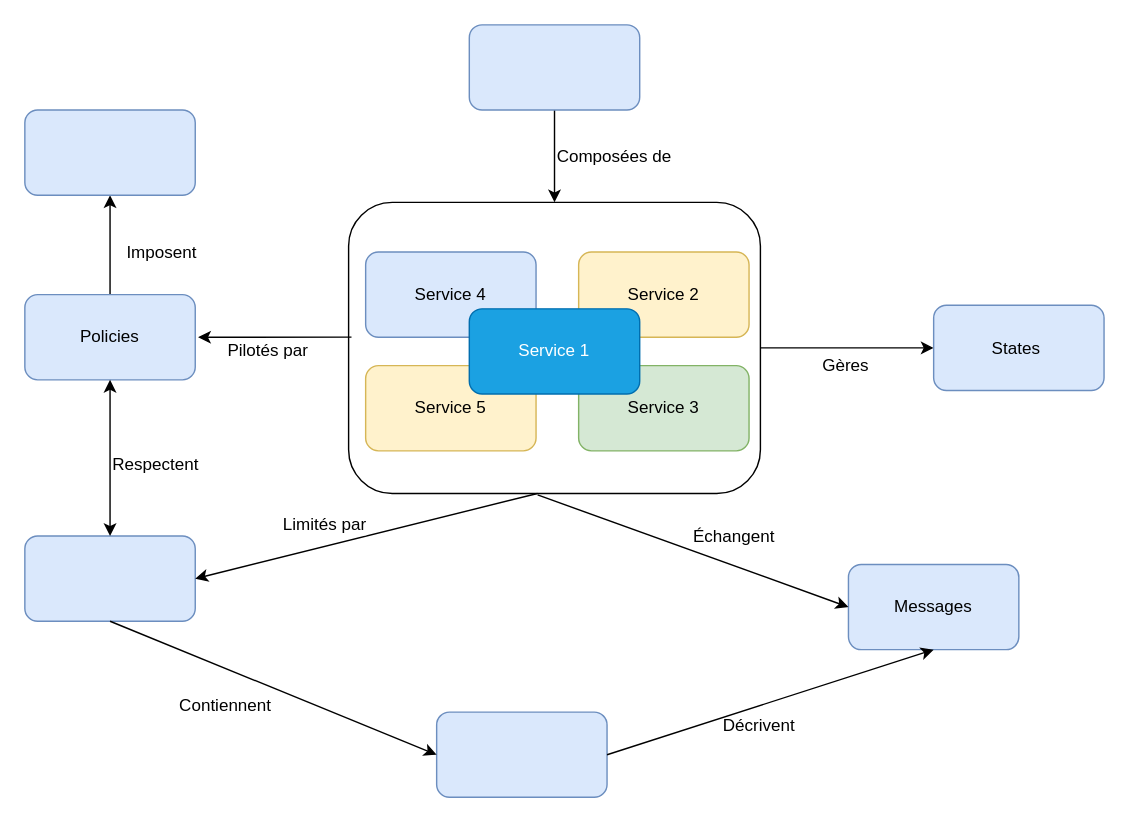
The diagram is 1129 pixels wide and 822 high, and some of its shapes have lost their labels. The box of each missing label's shape, as (x1, y1, x2, y2) in pixels:
Applications: (468, 23, 640, 110)
Contrats: (23, 535, 195, 621)
Operationnal requirements: (23, 109, 195, 195)
Schémas: (435, 711, 607, 797)
